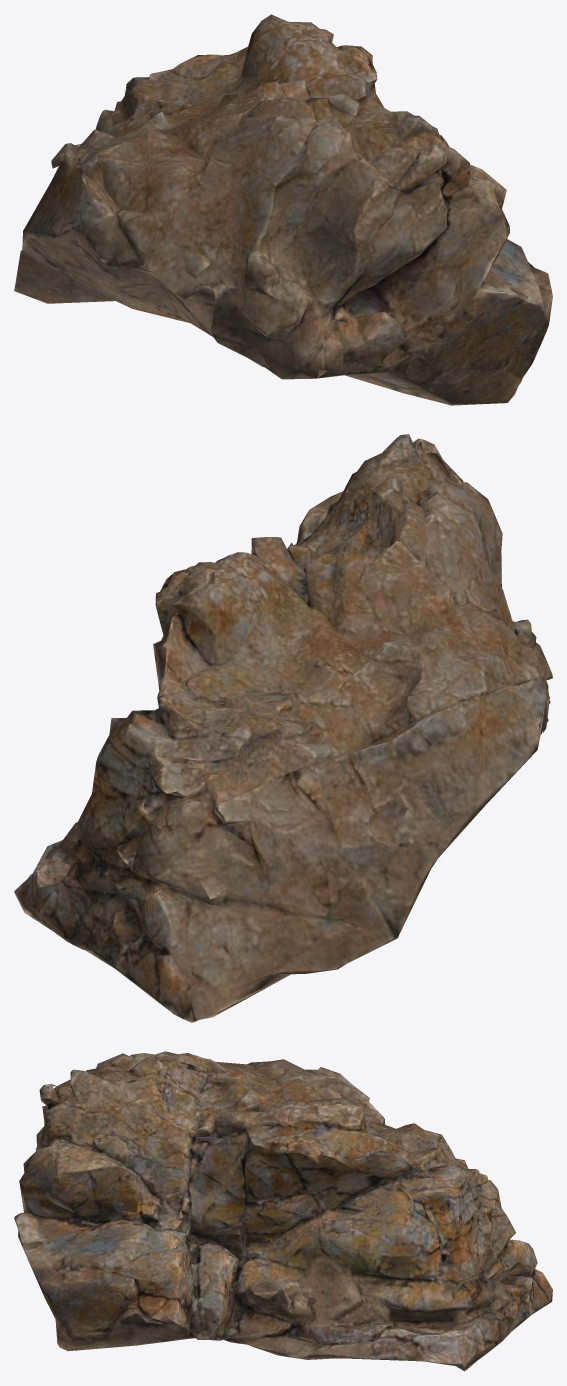
The model's file is boulder_01.glb.
3 views of the same model, one above another, from view 1: azimuth 30°, elevation 25°; view 2: azimuth 150°, elevation 25°; view 3: azimuth 270°, elevation 25° (orthographic). The views are drawn at different scales.
Visible parts, largest first — view 1: boulder_01; view 2: boulder_01; view 3: boulder_01.
Part boxes in pixels (left/top/right/bottom): boulder_01: left=14, top=14, right=552, bottom=405; boulder_01: left=14, top=434, right=552, bottom=1022; boulder_01: left=14, top=1051, right=552, bottom=1371.
Size of the model in its own units: 1.27 by 1 by 1.82.
1 material, 1 textured.
